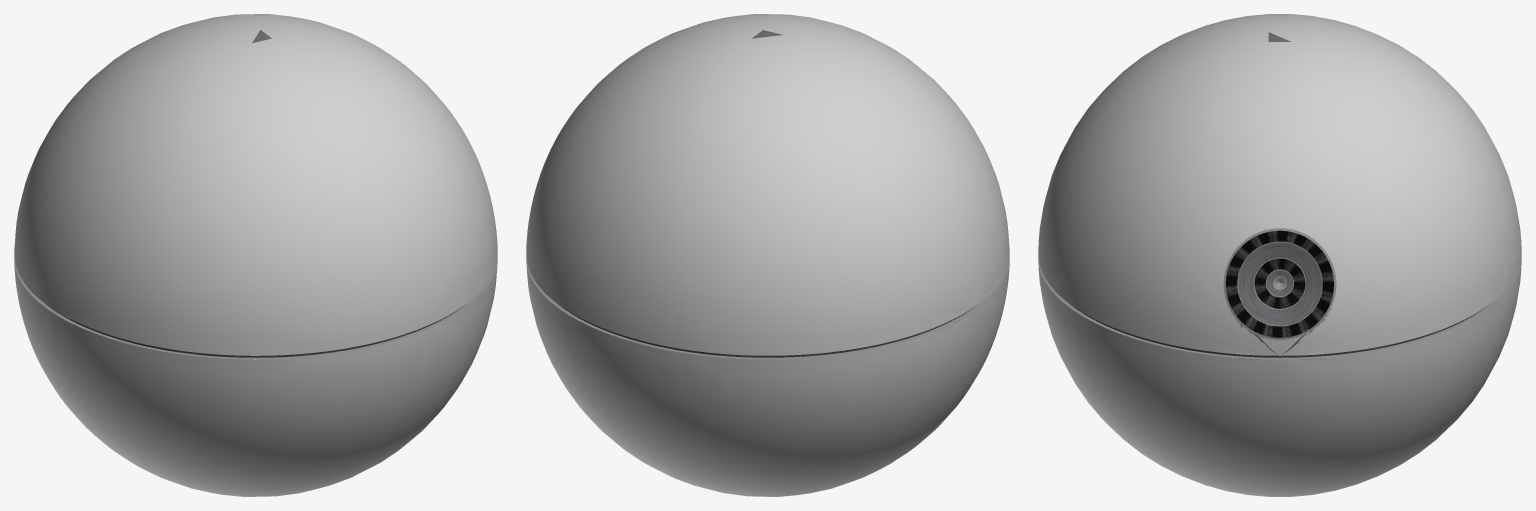
File: morteNera.dae
3 renders of one model, left to right at view 1: azimuth 30°, elevation 25°; view 2: azimuth 150°, elevation 25°; view 3: azimuth 270°, elevation 25°, orthographic.
Visible parts, largest first — view 1: Obj015, Obj014, Obj012, Obj011; view 2: Obj015, Obj014, Obj012, Obj011; view 3: Obj015, Obj014, Obj009, Obj007, Obj012, Obj005, Obj010, Obj011.
Boxes of the visible parts, x1,y1,x2,y2 form: Obj015: (14,14,497,355); Obj014: (14,262,497,496); Obj012: (14,259,497,359); Obj011: (46,304,465,357); Obj015: (526,14,1009,355); Obj014: (526,262,1009,496); Obj012: (526,258,1009,359); Obj011: (559,305,976,357); Obj015: (1038,14,1521,355); Obj014: (1038,228,1521,496); Obj009: (1226,230,1333,337); Obj007: (1238,242,1321,325); Obj012: (1038,258,1521,359); Obj005: (1254,258,1305,308); Obj010: (1223,228,1336,339); Obj011: (1071,305,1488,357).
Bounding box in the file's own units: 30000 × 30000 × 29933.
